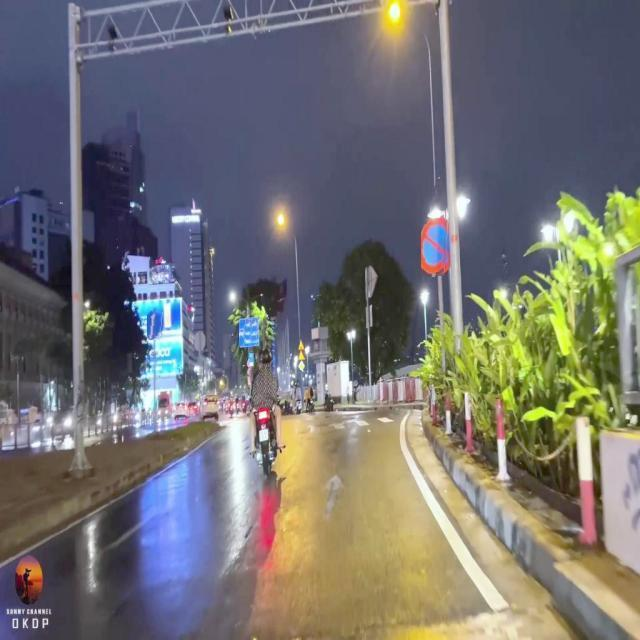131a-cam-do-xe: (420, 220, 452, 274)
407a-duong-mot-chieu: (148, 310, 164, 340)
